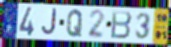2: (88, 9, 106, 40)
3: (134, 12, 152, 41)
4: (18, 6, 36, 38)
B: (110, 9, 133, 41)
J: (40, 8, 58, 37)
Q: (66, 8, 84, 38)
